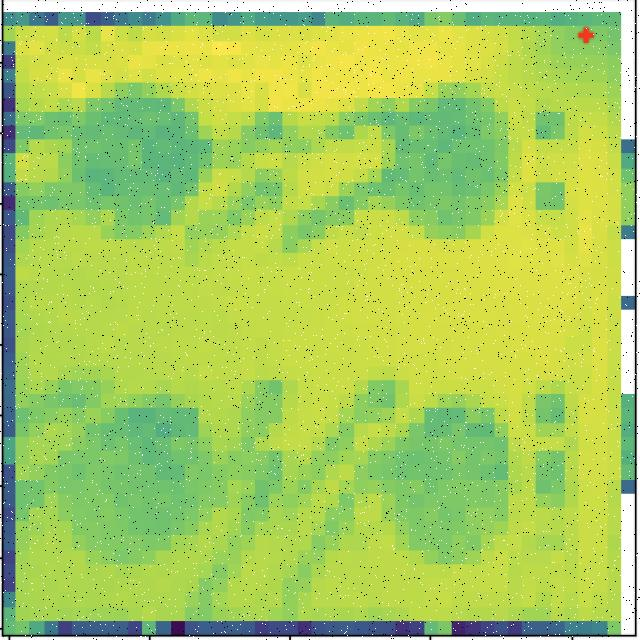Concrete: (64, 393, 220, 574)
Glass: (389, 403, 521, 568)
Metal: (72, 78, 214, 254)
Wood: (360, 79, 518, 245)
